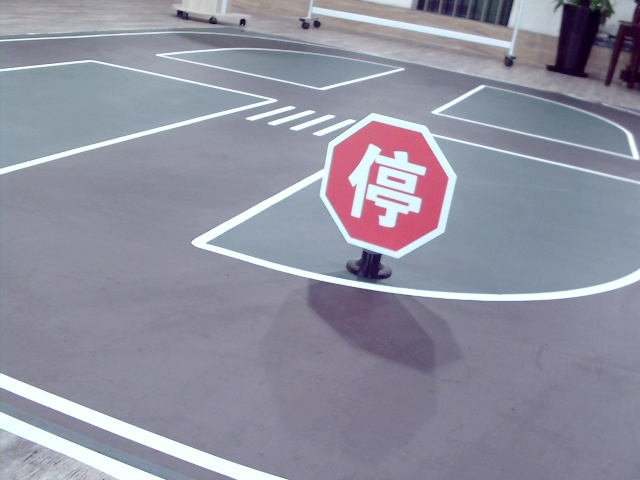stop: (343, 140, 427, 228)
